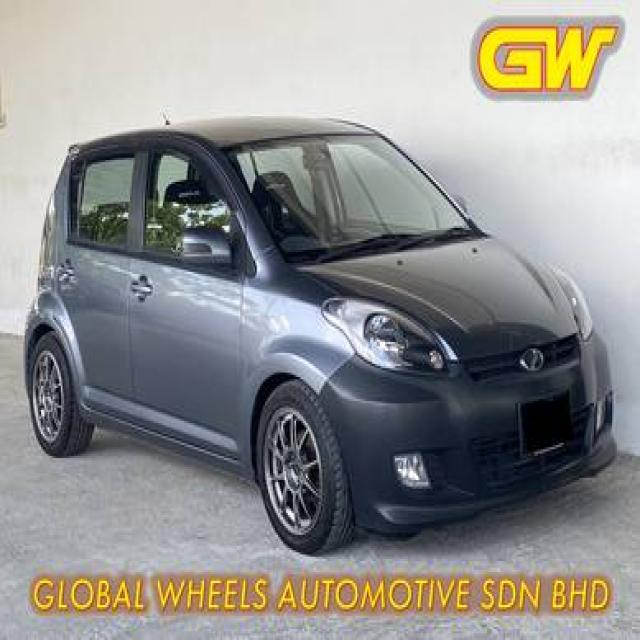PeroduaMyvi: (21, 112, 617, 554)
